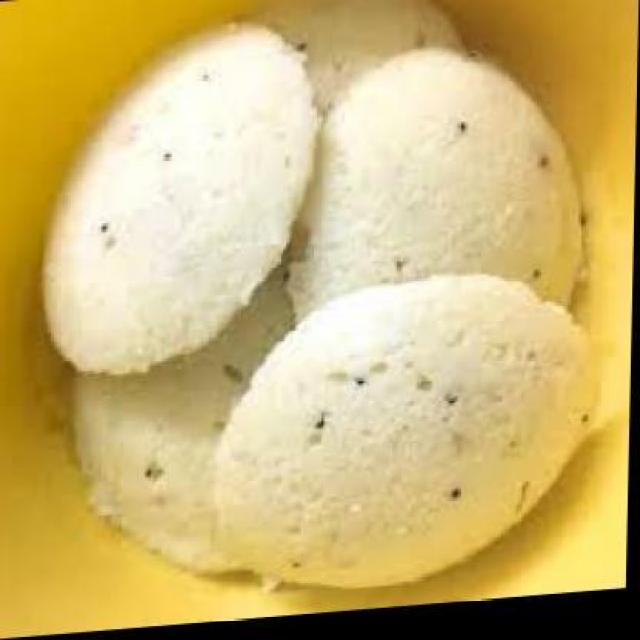idli: (217, 273, 601, 602), (42, 19, 326, 378), (286, 46, 586, 337), (71, 266, 298, 588), (245, 0, 468, 234)
